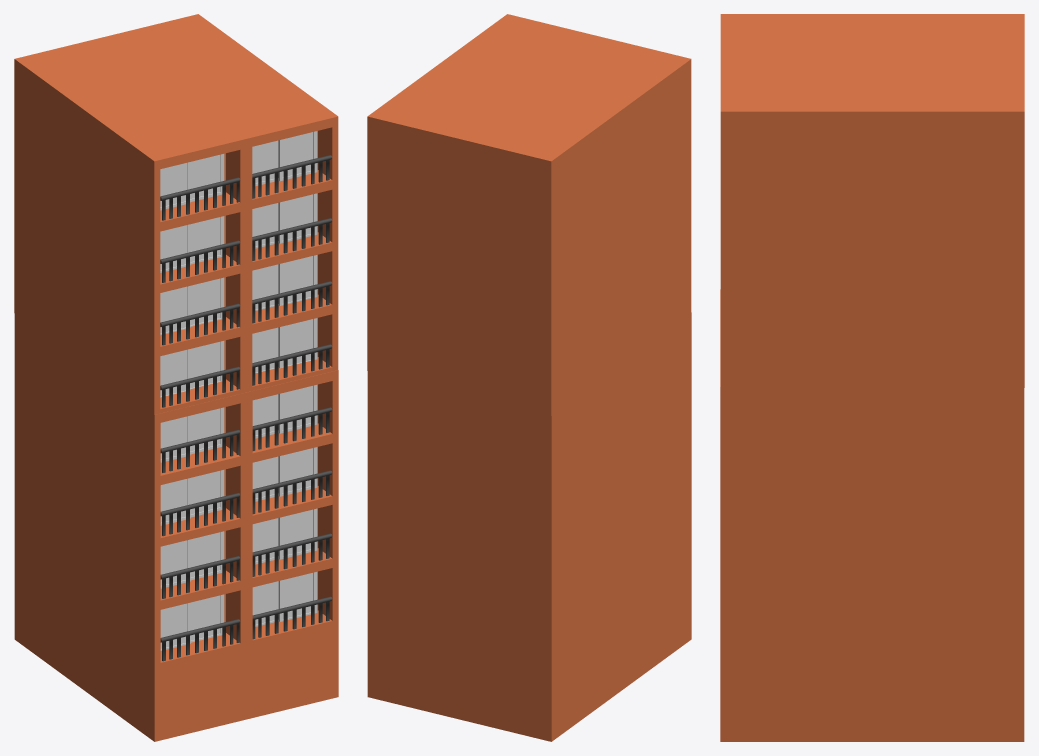
The model's file is prédioBase.fbx.
3 views of the same model, side by side, from view 1: azimuth 30°, elevation 25°; view 2: azimuth 150°, elevation 25°; view 3: azimuth 270°, elevation 25° (orthographic). The views are drawn at different scales.
Parts seen in each view (by area): view 1: Cube.002, Cube.001, varanda.001; view 2: Cube.002, Cube.001; view 3: Cube.002, Cube.001.
Part boxes in pixels (bbox=[...]): Cube.002: bbox=[14, 14, 338, 414]; Cube.001: bbox=[14, 313, 338, 741]; varanda.001: bbox=[160, 131, 332, 661]; Cube.002: bbox=[367, 14, 691, 415]; Cube.001: bbox=[367, 312, 691, 741]; Cube.002: bbox=[720, 14, 1024, 395]; Cube.001: bbox=[720, 289, 1024, 741].
Size of the model in its own units: 1259 by 3795 by 1660.
